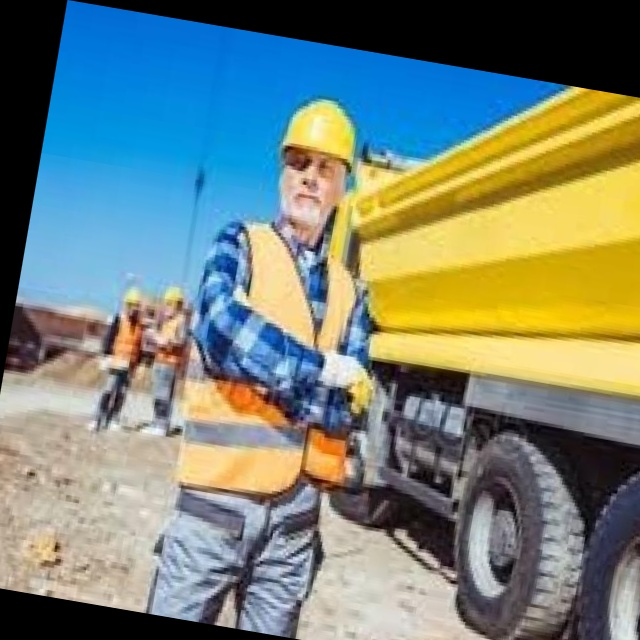Con_Chaleco: (174, 223, 383, 492)
